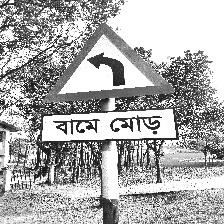Left-Turn: (40, 24, 180, 145)
